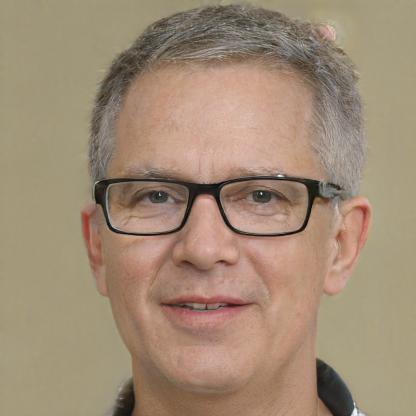glasses: (92, 169, 326, 241)
